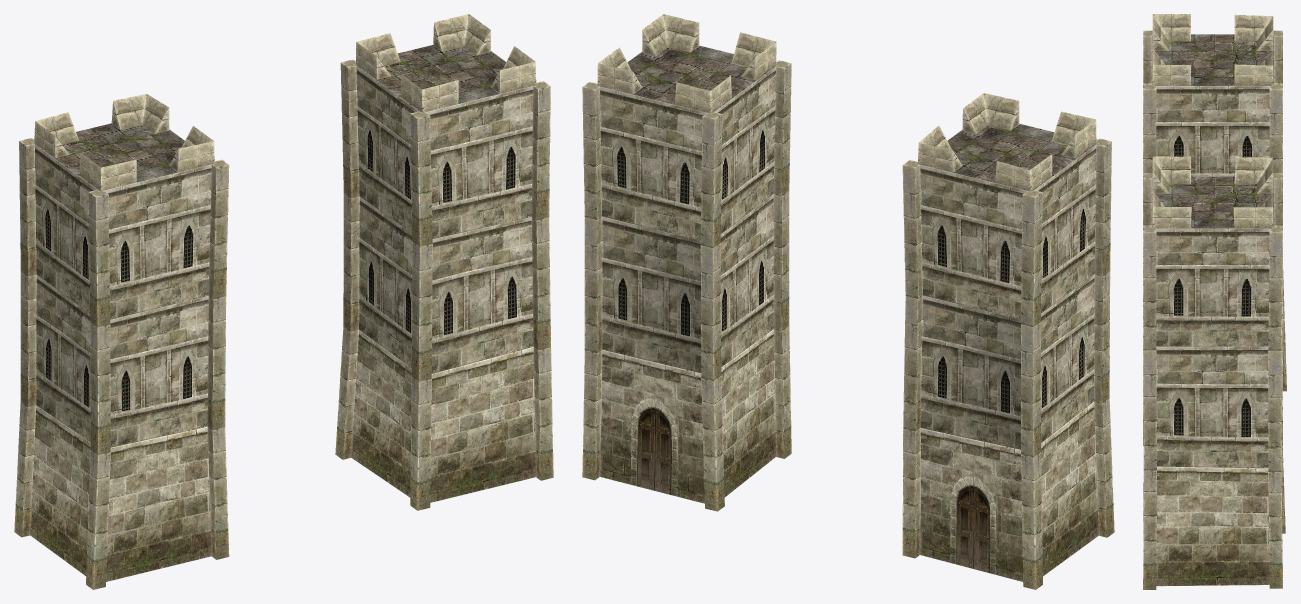
File: OZ_09_sn_T03blgd07A.glb
3 renders of one model, left to right at view 1: azimuth 30°, elevation 25°; view 2: azimuth 150°, elevation 25°; view 3: azimuth 270°, elevation 25°, orthographic. The views are drawn at different scales.
Visible parts, largest first — view 1: OM_09_sn_T03blgd07A; view 2: OM_09_sn_T03blgd07A; view 3: OM_09_sn_T03blgd07A.
Part boxes in pixels (x1=…): OM_09_sn_T03blgd07A: x1=14, y1=14, x2=553, y2=589; OM_09_sn_T03blgd07A: x1=582, y1=14, x2=1114, y2=589; OM_09_sn_T03blgd07A: x1=1143, y1=14, x2=1286, y2=589.
Bounding box in the file's own units: 17.81 × 15.37 × 5.3.
4 materials, 4 textured.
